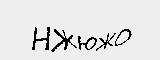І: (73, 5, 84, 28)
А: (53, 9, 71, 30)
Б: (24, 17, 40, 39)
Д: (39, 11, 54, 39)
П: (110, 1, 143, 29)
Т: (82, 2, 106, 30)
